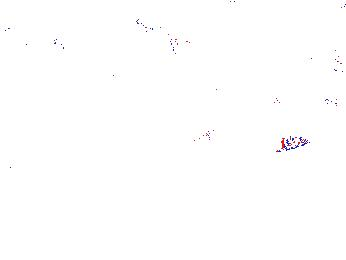X-ray fish: (308, 48, 346, 75), (272, 89, 284, 111)
glassfish: (190, 121, 316, 154)
red belly glassfish: (323, 95, 341, 107)
redtail glassfish: (132, 18, 184, 56), (12, 21, 73, 53), (283, 33, 345, 54)
